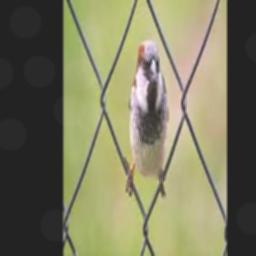Sparrow: (129, 39, 168, 181)
